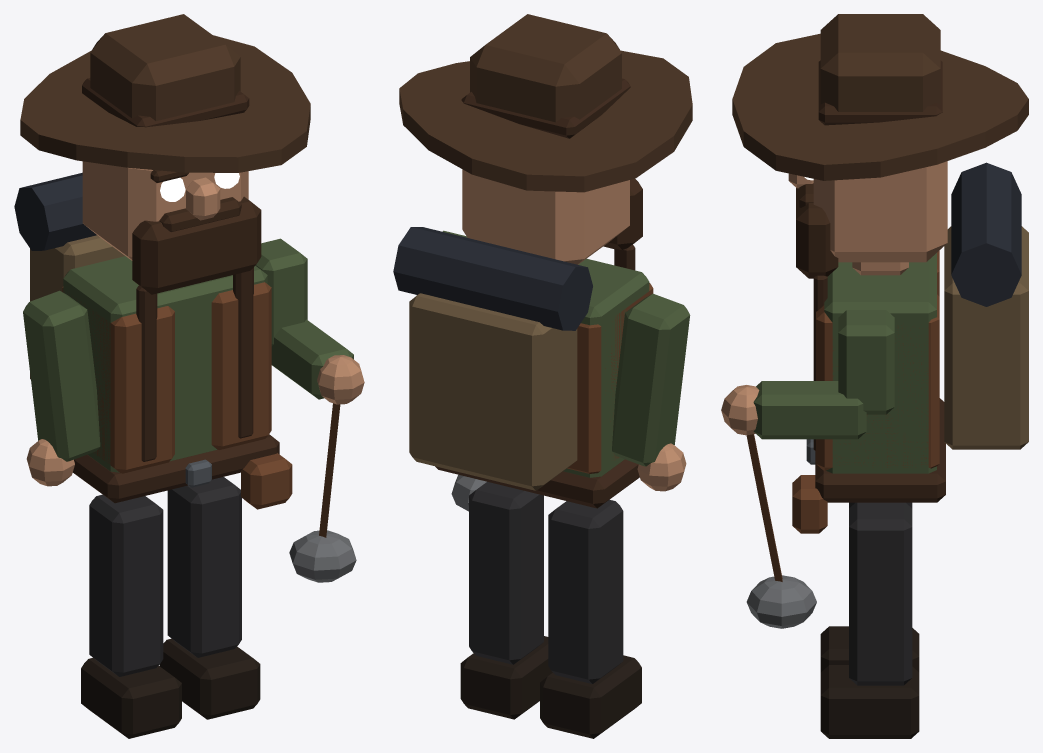
File: hunter_ruins.glb
The picture shows the model from 3 angles, left to right: view 1: azimuth 30°, elevation 25°; view 2: azimuth 150°, elevation 25°; view 3: azimuth 270°, elevation 25°; orthographic projection.
Parts seen in each view (by area): view 1: Hunter, Arm, Eyes; view 2: Hunter, Arm; view 3: Hunter, Arm.
Boxes of the visible parts, <box> form: Hunter: <box>14,14,310,738</box>; Arm: <box>255,238,364,582</box>; Eyes: <box>160,173,239,201</box>; Hunter: <box>393,14,692,738</box>; Arm: <box>416,230,486,511</box>; Hunter: <box>732,14,1028,738</box>; Arm: <box>721,310,894,628</box>.
Size of the model in its own units: 0.456 by 1.05 by 0.436.
